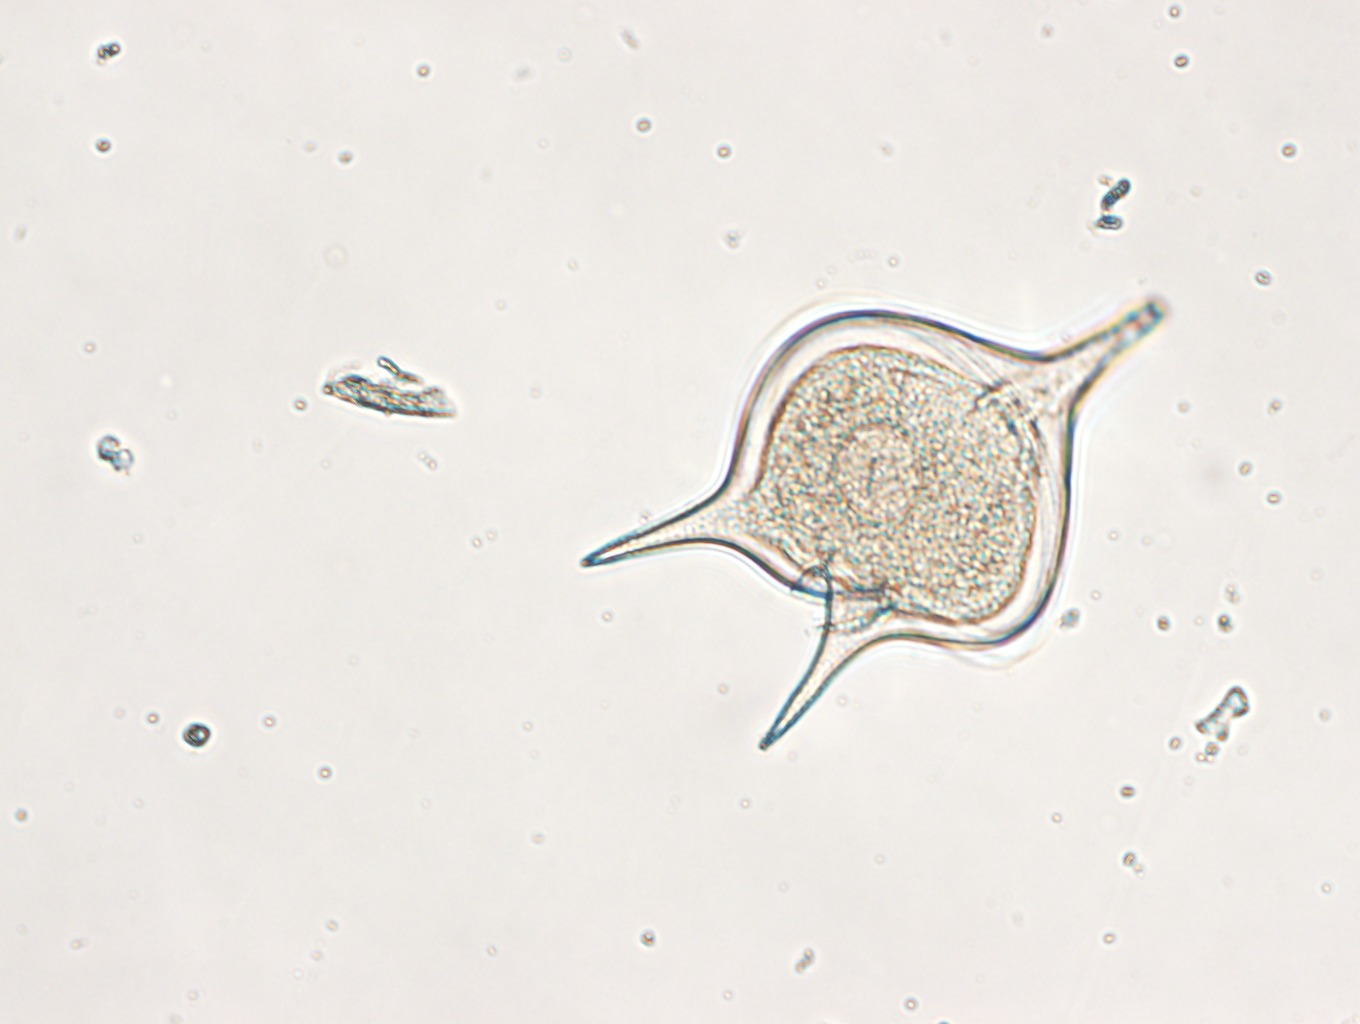protoperidinium: (578, 296, 1166, 752)
